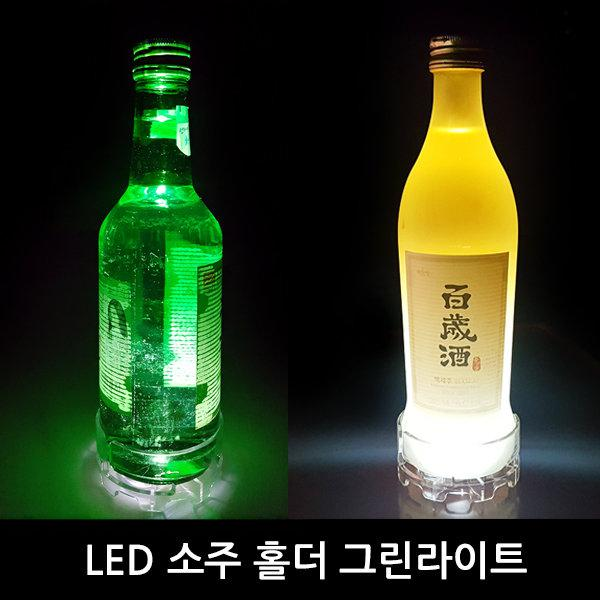soju: (91, 36, 231, 488)
